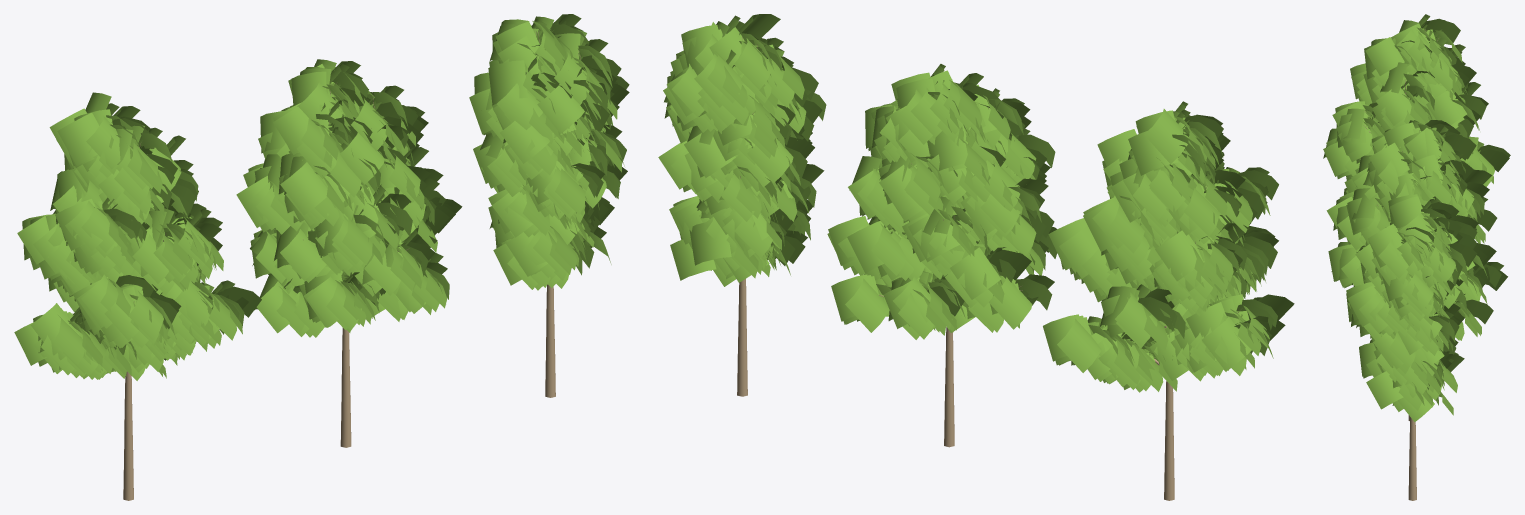
File: treesGeneric_0.fbx
3 views of the same model, side by side, from view 1: azimuth 30°, elevation 25°; view 2: azimuth 150°, elevation 25°; view 3: azimuth 270°, elevation 25° (orthographic). The views are drawn at different scales.
Visible parts, largest first — view 1: leaves1, leaves2, leaves3, tree1, tree2, tree3; view 2: leaves1, leaves2, leaves3, tree1, tree2, tree3; view 3: leaves3, leaves1, leaves2, tree3.
Part boxes in pixels (x1,y1,x2,y2): leaves1: [14, 92, 261, 380]; leaves2: [236, 59, 462, 337]; leaves3: [469, 14, 629, 290]; tree1: [123, 143, 200, 500]; tree2: [303, 83, 409, 447]; tree3: [536, 31, 592, 397]; leaves1: [1043, 101, 1294, 392]; leaves2: [827, 64, 1057, 339]; leaves3: [658, 14, 826, 286]; tree1: [1154, 187, 1248, 500]; tree2: [879, 107, 1022, 447]; tree3: [725, 37, 757, 396]; leaves3: [1346, 194, 1478, 421]; leaves1: [1323, 14, 1510, 243]; leaves2: [1326, 120, 1507, 340]; tree3: [1408, 223, 1429, 500].
Size of the model in its own units: 1091 by 684 by 372.
